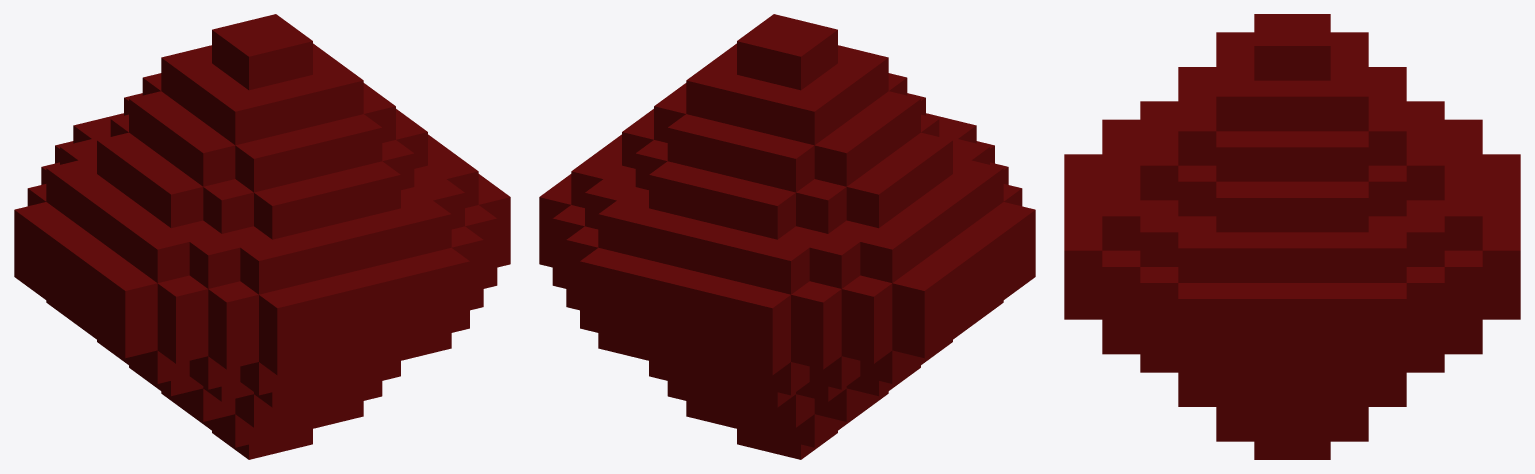
File: bullet2.obj
3 renders of one model, left to right at view 1: azimuth 30°, elevation 25°; view 2: azimuth 150°, elevation 25°; view 3: azimuth 270°, elevation 25°, orthographic. The views are drawn at different scales.
Bounding box in the file's own units: 12 × 12 × 12.
1 material, 1 textured.
